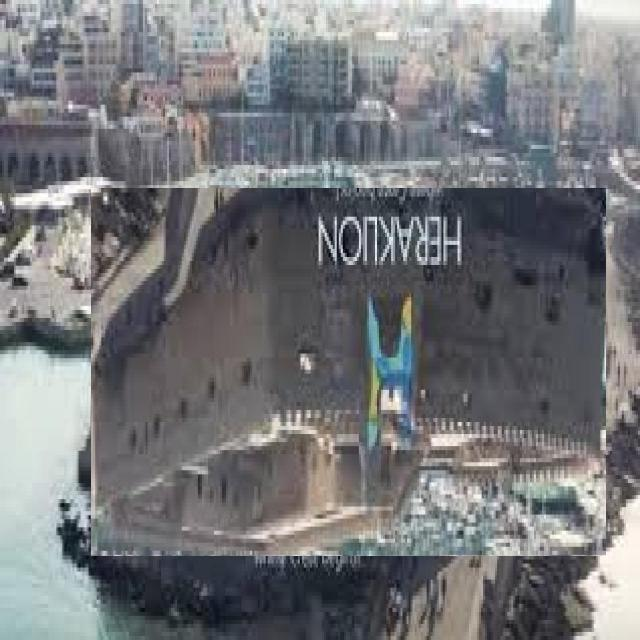Kules: (92, 189, 607, 557)
